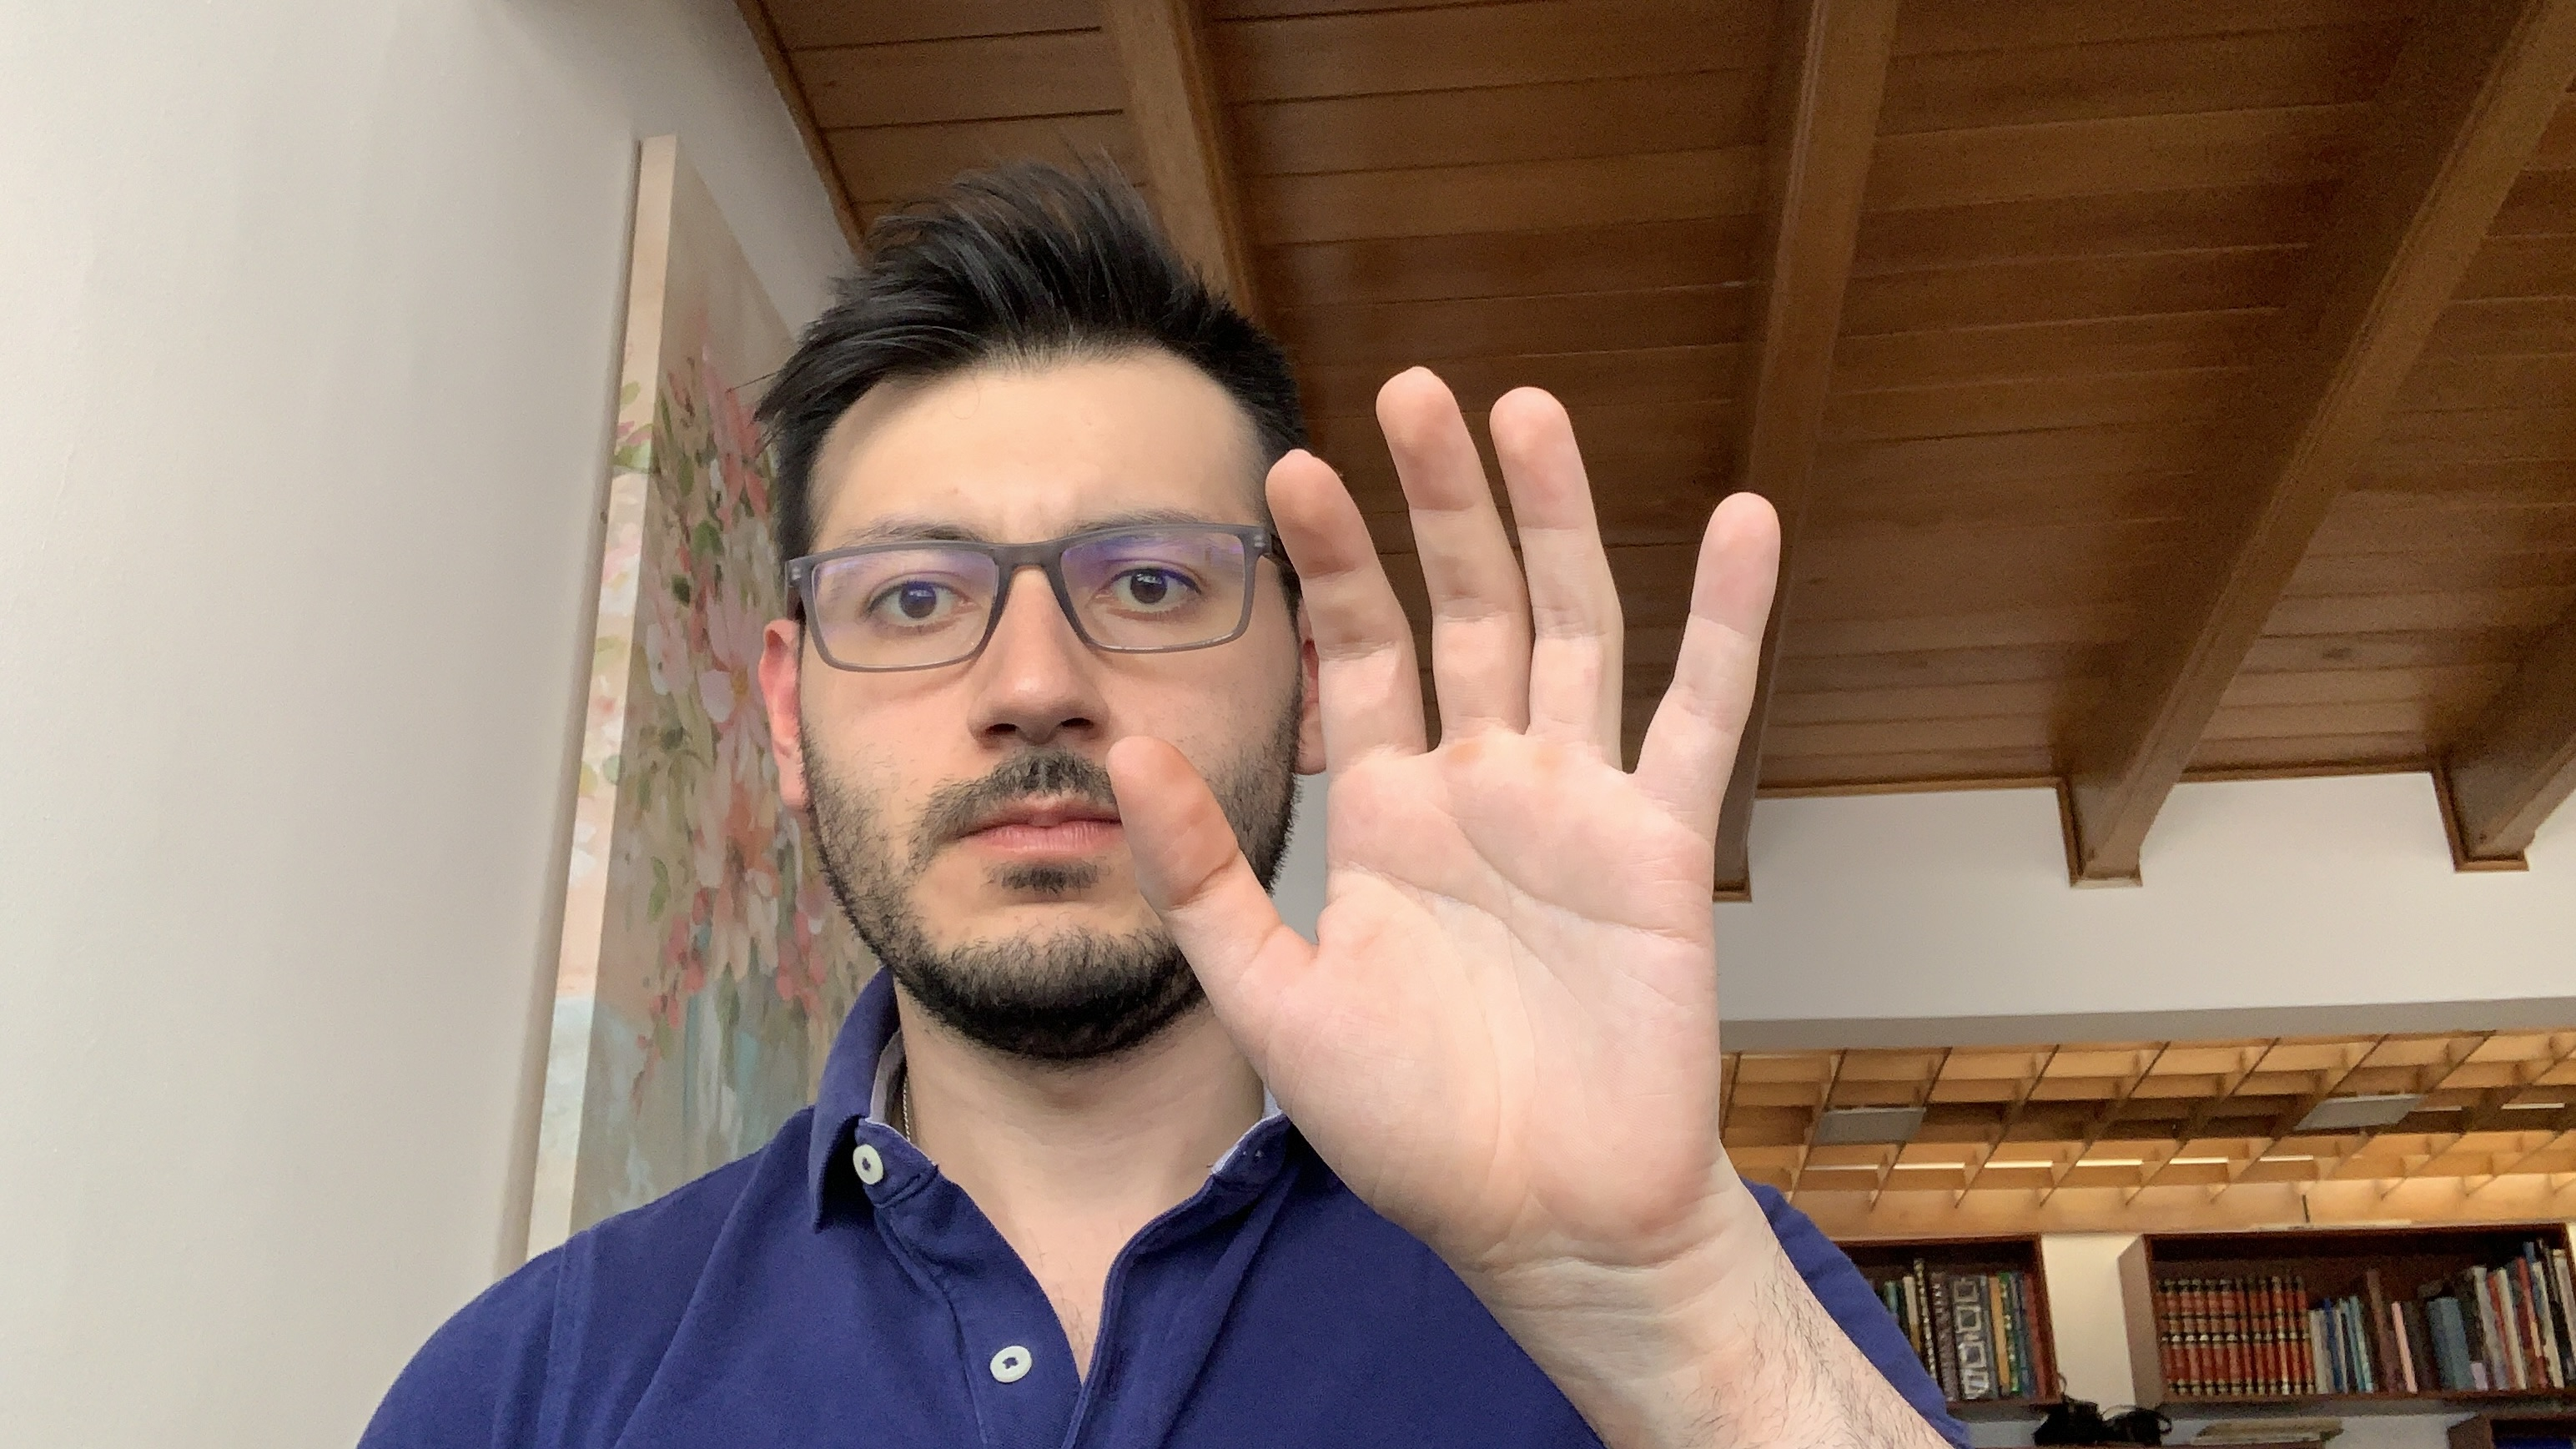Hello: (1092, 352, 1824, 1295)
